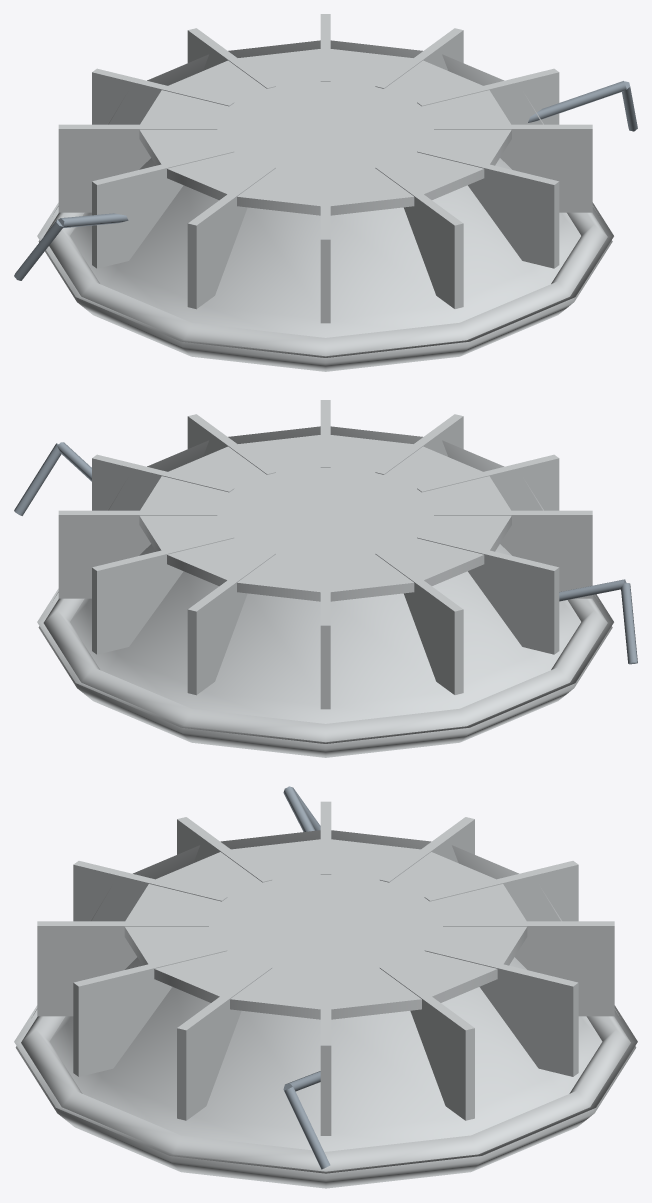
The model's file is source.glb.
The picture shows the model from 3 angles, top to bottom: view 1: azimuth 30°, elevation 25°; view 2: azimuth 150°, elevation 25°; view 3: azimuth 270°, elevation 25°; orthographic projection. The views are drawn at different scales.
Parts seen in each view (by area): view 1: 粉末涂层铝壳, 机加工金属; view 2: 粉末涂层铝壳, 机加工金属; view 3: 粉末涂层铝壳, 机加工金属.
Boxes of the visible parts, box(x1,y1,x2,y2) form: 粉末涂层铝壳: box(37, 14, 613, 371); 机加工金属: box(14, 81, 637, 280); 粉末涂层铝壳: box(37, 400, 613, 757); 机加工金属: box(14, 442, 637, 664); 粉末涂层铝壳: box(14, 801, 637, 1188); 机加工金属: box(283, 786, 330, 1169).
Bounding box in the file's own units: 0.2368 × 0.0478 × 0.19.
